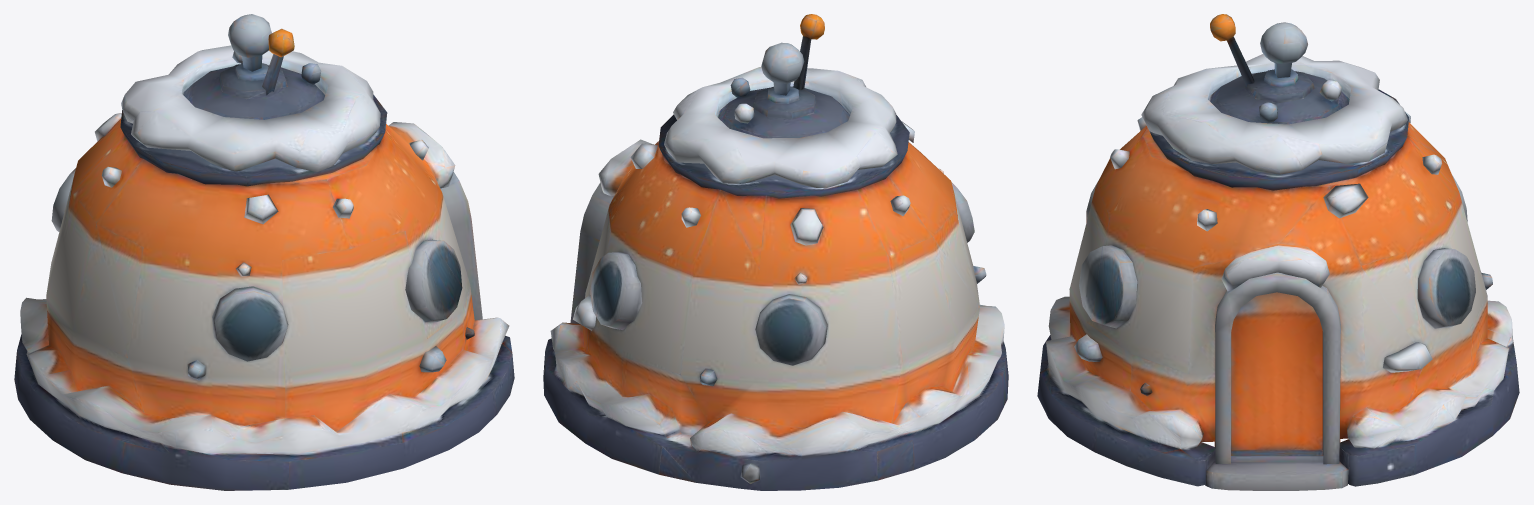
Rendered from hut.glb.
3 views of the same model, side by side, from view 1: azimuth 30°, elevation 25°; view 2: azimuth 150°, elevation 25°; view 3: azimuth 270°, elevation 25° (orthographic). The views are drawn at different scales.
Visible parts, largest first — view 1: tripo_node_f3501677-b095-48c0-b847-bcbbd52e91cd; view 2: tripo_node_f3501677-b095-48c0-b847-bcbbd52e91cd; view 3: tripo_node_f3501677-b095-48c0-b847-bcbbd52e91cd.
Part boxes in pixels (box(x1,y1,x2,y2)): tripo_node_f3501677-b095-48c0-b847-bcbbd52e91cd: box(14, 14, 514, 490); tripo_node_f3501677-b095-48c0-b847-bcbbd52e91cd: box(543, 14, 1008, 490); tripo_node_f3501677-b095-48c0-b847-bcbbd52e91cd: box(1037, 14, 1519, 490).
Bounding box in the file's own units: 0.9941 × 0.8535 × 0.998.
1 material, 1 textured.
